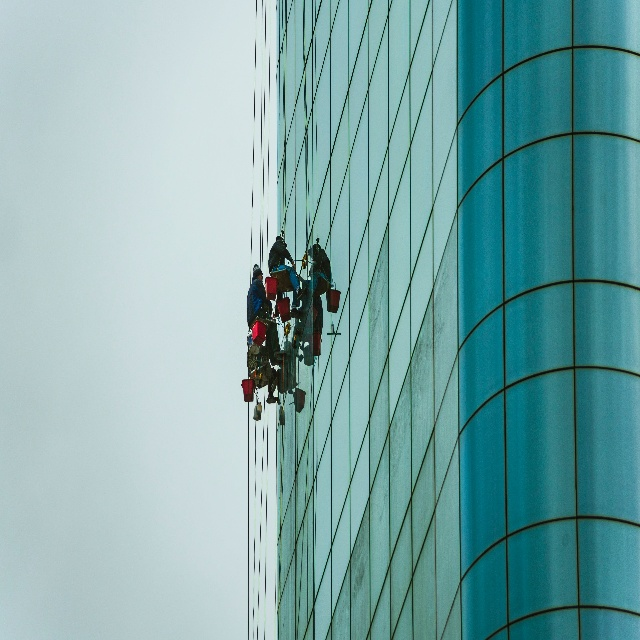Sin_guantes: (292, 261, 296, 270)
